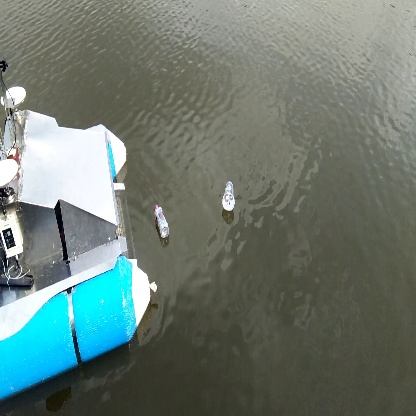bottle: (151, 202, 173, 240), (222, 178, 237, 213)
